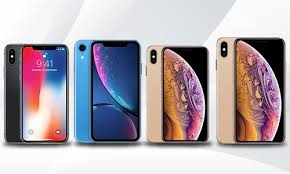iphone: (232, 35, 287, 145), (19, 43, 69, 145), (91, 41, 141, 143), (160, 43, 210, 145)
iphone10: (232, 35, 287, 145), (160, 43, 210, 145), (91, 41, 141, 143), (20, 43, 70, 145)
